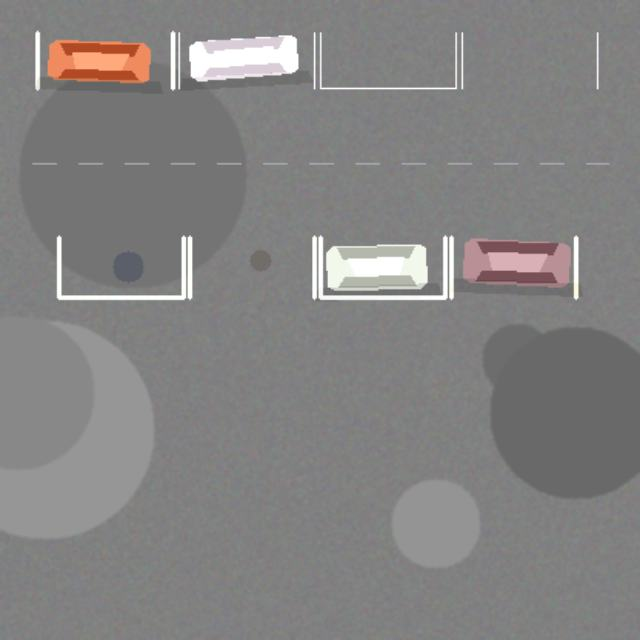space-empty: (320, 32, 455, 88), (462, 32, 597, 88), (58, 237, 183, 297), (189, 237, 314, 297)
space-occupied: (178, 32, 314, 88), (37, 32, 172, 88), (320, 237, 445, 297), (451, 237, 575, 297)
